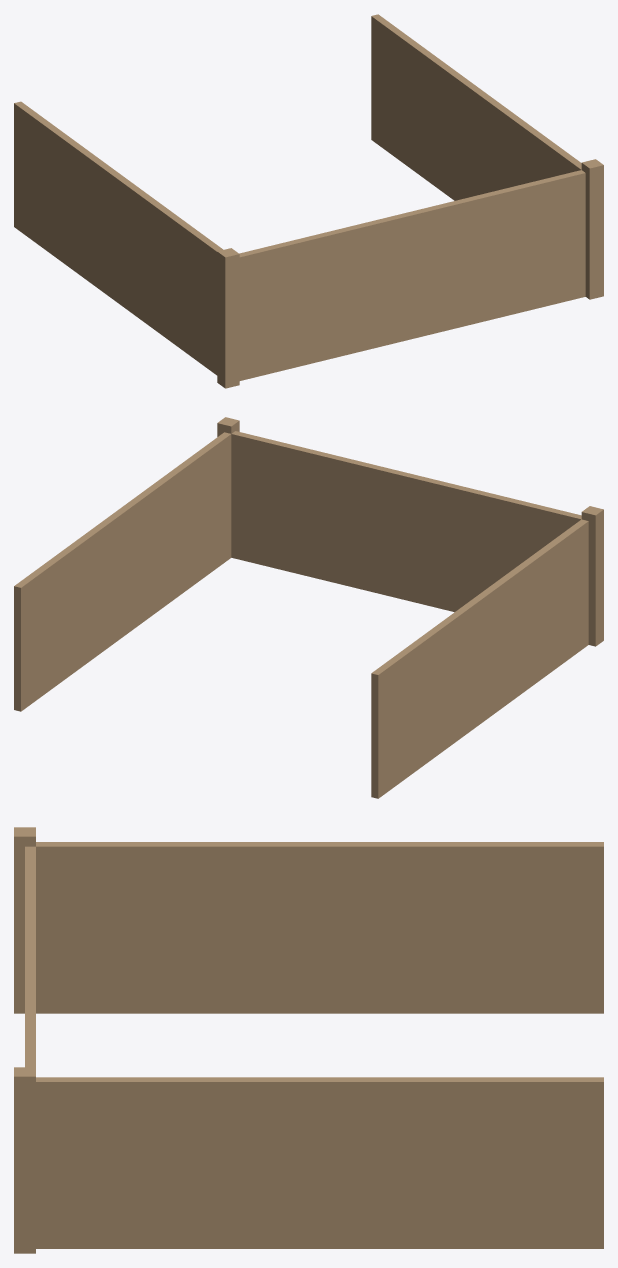
The model's file is SM_Fence_Medium.fbx.
3 views of the same model, one above another, from view 1: azimuth 30°, elevation 25°; view 2: azimuth 150°, elevation 25°; view 3: azimuth 270°, elevation 25° (orthographic). The views are drawn at different scales.
Visible parts, largest first — view 1: SM_Fence_Medium; view 2: SM_Fence_Medium; view 3: SM_Fence_Medium.
Part boxes in pixels (left/top/right/bottom): SM_Fence_Medium: left=14, top=14, right=603, bottom=388; SM_Fence_Medium: left=14, top=417, right=603, bottom=798; SM_Fence_Medium: left=14, top=827, right=603, bottom=1253.
Bounding box in the file's own units: 576 × 191 × 576.
